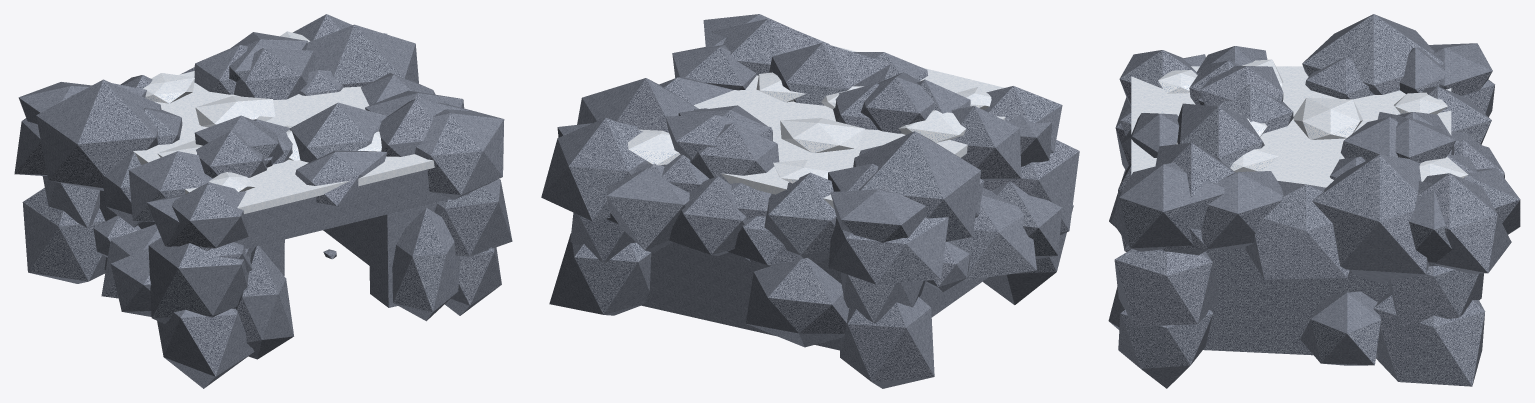
Rendered from cave_snow.glb.
3 views of the same model, side by side, from view 1: azimuth 30°, elevation 25°; view 2: azimuth 150°, elevation 25°; view 3: azimuth 270°, elevation 25° (orthographic). The views are drawn at different scales.
Visible parts, largest first — view 1: Body.003; view 2: Body.003; view 3: Body.003.
Part boxes in pixels (x1=…): Body.003: x1=14, y1=14, x2=512, y2=388; Body.003: x1=541, y1=14, x2=1079, y2=388; Body.003: x1=1108, y1=14, x2=1520, y2=388.
Bounding box in the file's own units: 13.1 × 7.82 × 11.58.
3 materials, 2 textured.
